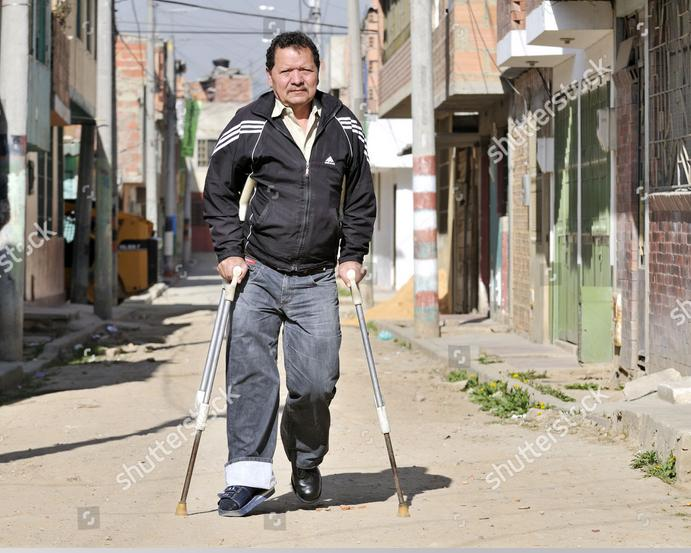crutches: (176, 30, 410, 517)
